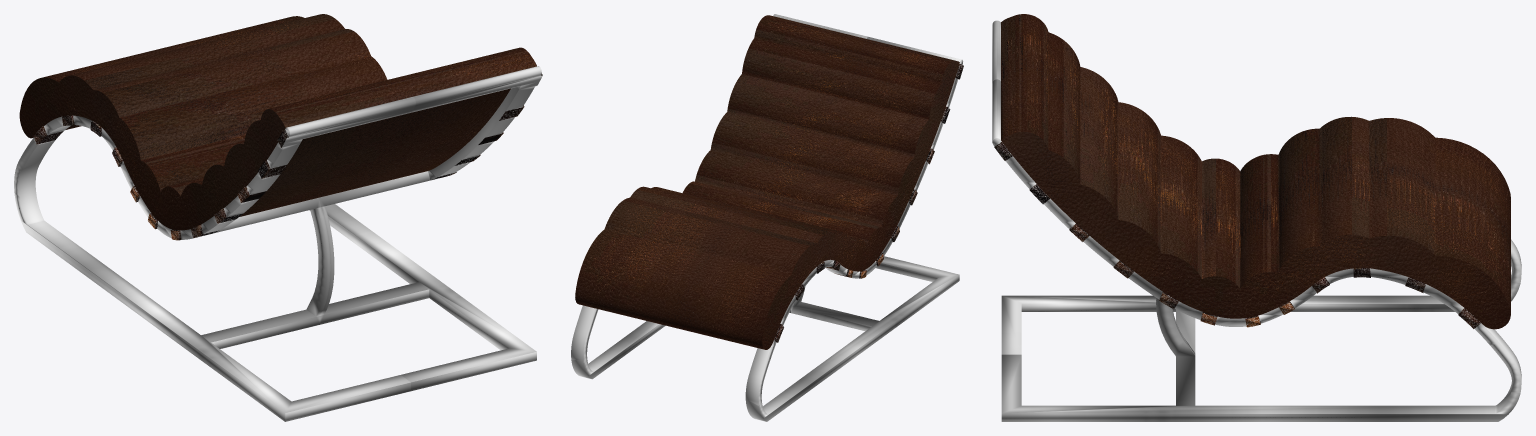
The picture shows the model from 3 angles, left to right: view 1: azimuth 30°, elevation 25°; view 2: azimuth 150°, elevation 25°; view 3: azimuth 270°, elevation 25°; orthographic projection. The views are drawn at different scales.
Parts seen in each view (by area): view 1: mesh1_mesh1-geometry, mesh2_mesh2-geometry, mesh17_mesh17-geometry; view 2: mesh1_mesh1-geometry, mesh2_mesh2-geometry, mesh17_mesh17-geometry; view 3: mesh1_mesh1-geometry, mesh17_mesh17-geometry, mesh2_mesh2-geometry.
Boxes of the visible parts, x1=… form: mesh1_mesh1-geometry: x1=19, y1=14, x2=536, y2=230; mesh2_mesh2-geometry: x1=14, y1=97, x2=415, y2=421; mesh17_mesh17-geometry: x1=309, y1=66, x2=542, y2=391; mesh1_mesh1-geometry: x1=575, y1=15, x2=959, y2=349; mesh2_mesh2-geometry: x1=745, y1=37, x2=963, y2=421; mesh17_mesh17-geometry: x1=571, y1=14, x2=868, y2=379; mesh1_mesh1-geometry: x1=1001, y1=14, x2=1510, y2=329; mesh17_mesh17-geometry: x1=992, y1=79, x2=1521, y2=421; mesh2_mesh2-geometry: x1=992, y1=20, x2=1521, y2=354.
Size of the model in its own units: 0.4166 by 0.4707 by 0.7777.
Materials: 4 (4 with a texture image).
